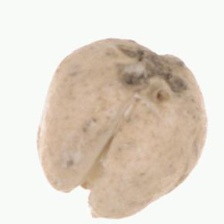L1: (105, 34, 196, 87), (48, 178, 120, 219)
L2: (37, 38, 208, 220)
